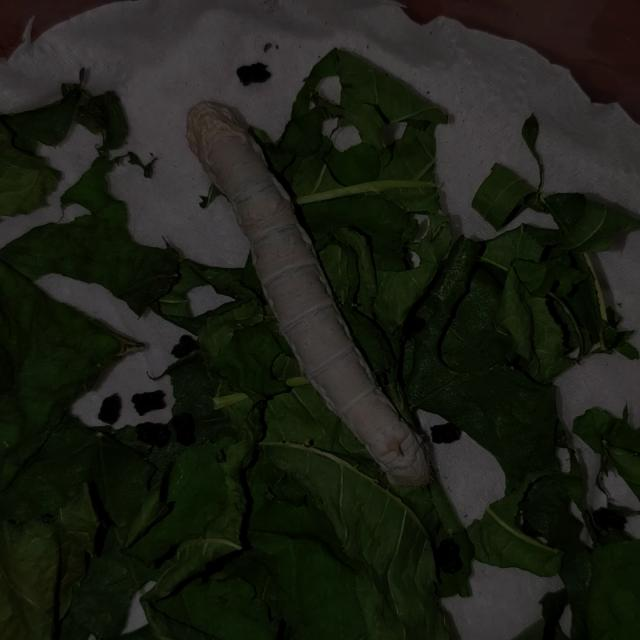Healthy: (177, 89, 459, 500)
